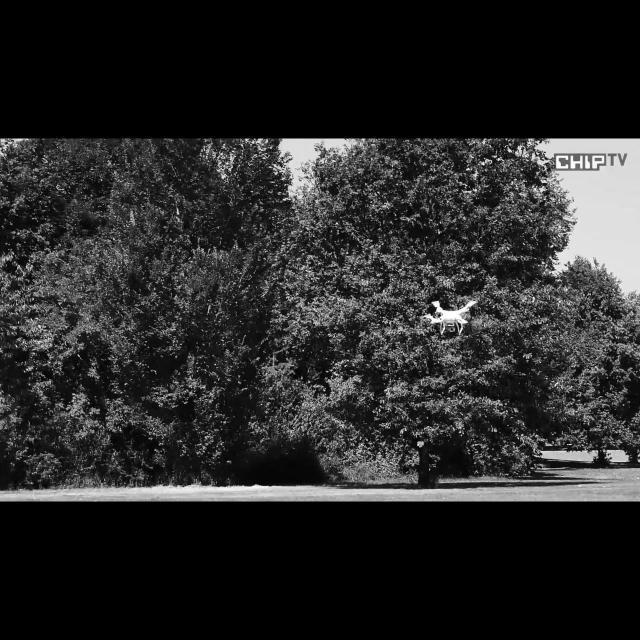Drons: (421, 296, 479, 336)
